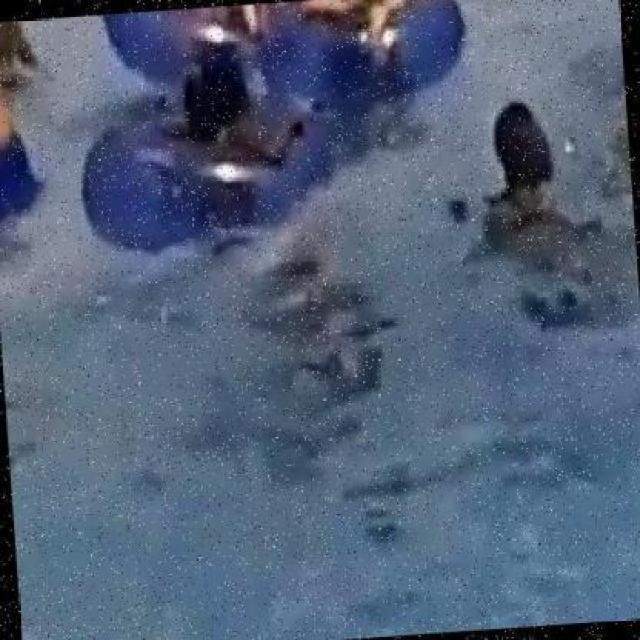drowning: (489, 112, 566, 260)
